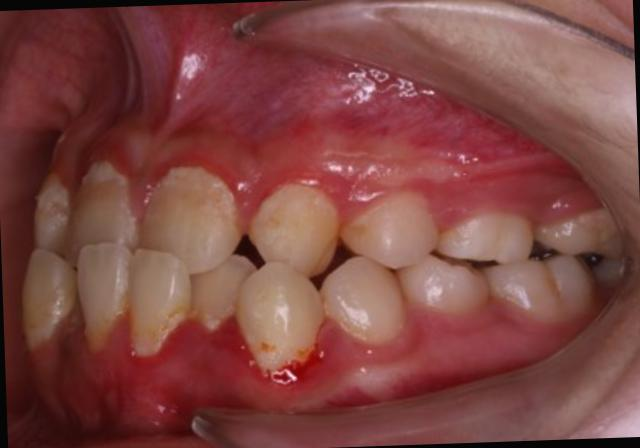molar class II full class: (440, 203, 598, 335)
